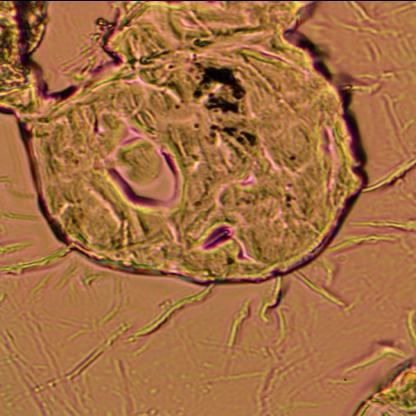Normal: (0, 0, 389, 277)
